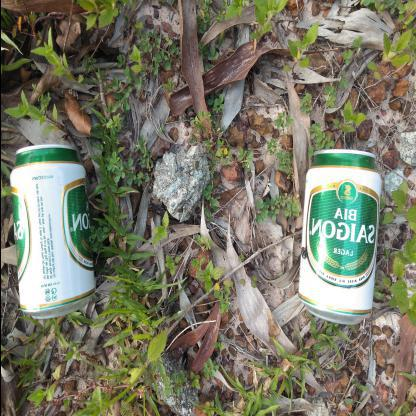metal: (9, 143, 96, 323), (298, 149, 382, 327)
